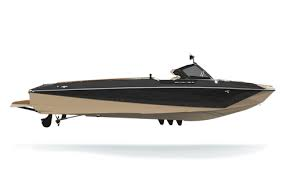boat: (10, 54, 277, 126)
